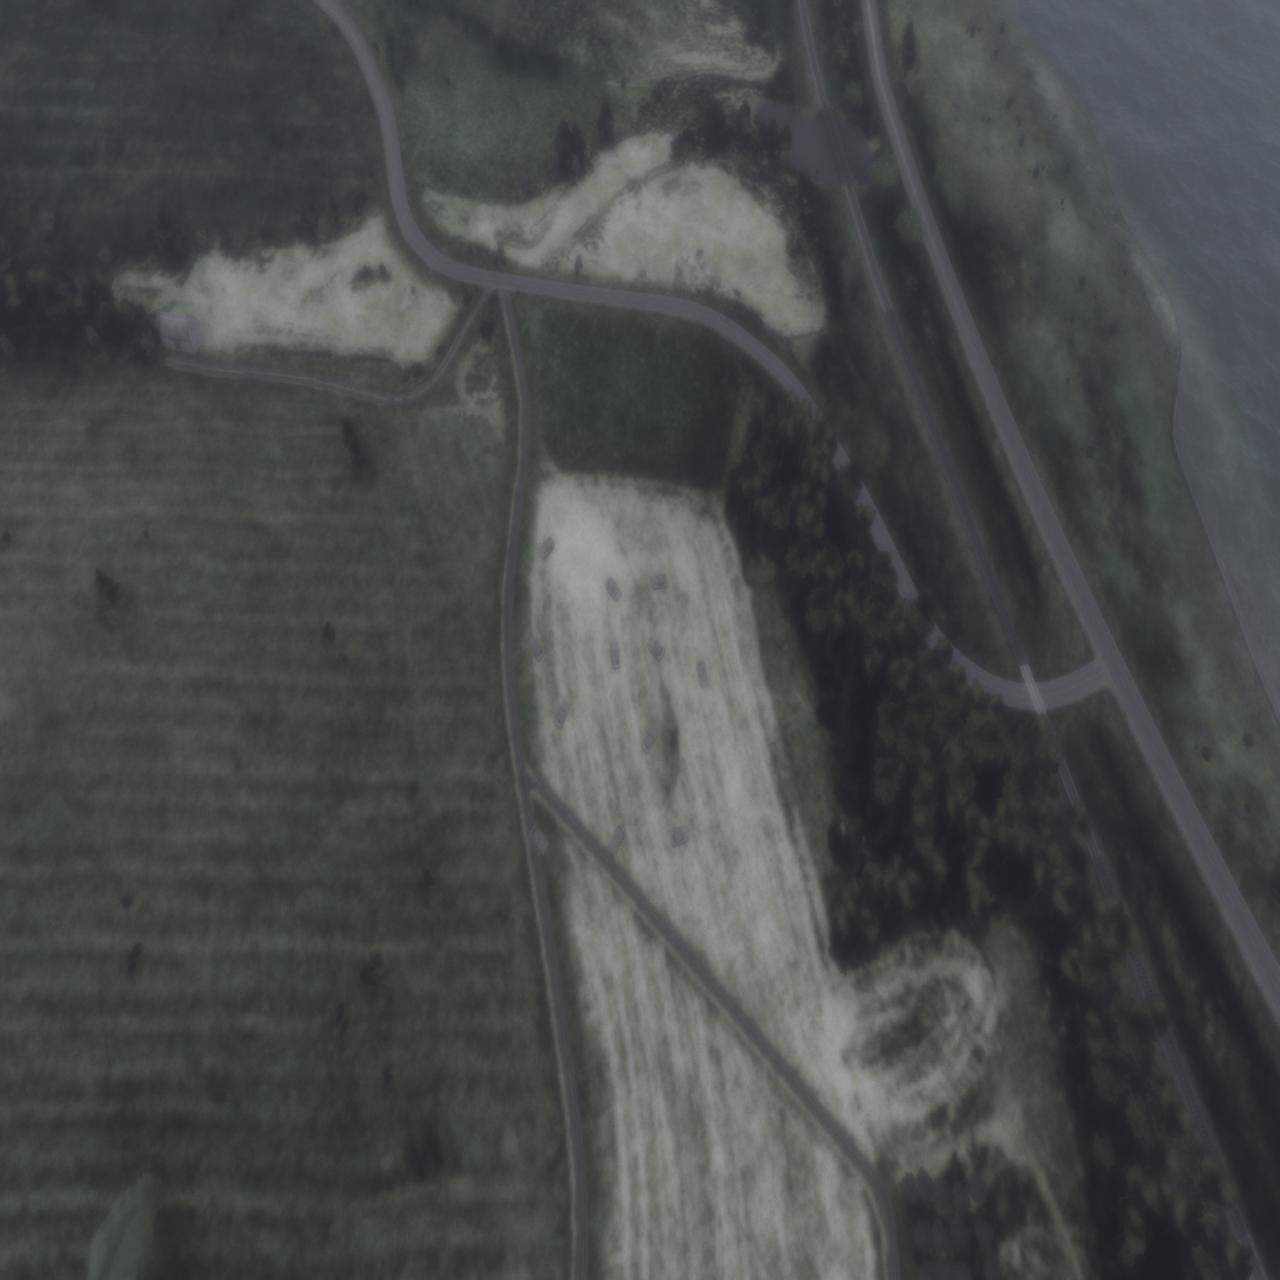MIL_Veh: (529, 822, 550, 857), (607, 821, 626, 857), (647, 634, 667, 665), (605, 576, 624, 605), (553, 700, 571, 730), (641, 724, 658, 756), (527, 636, 546, 663), (670, 825, 692, 849), (537, 536, 554, 561), (696, 660, 710, 692), (649, 572, 669, 592), (610, 641, 621, 669)
